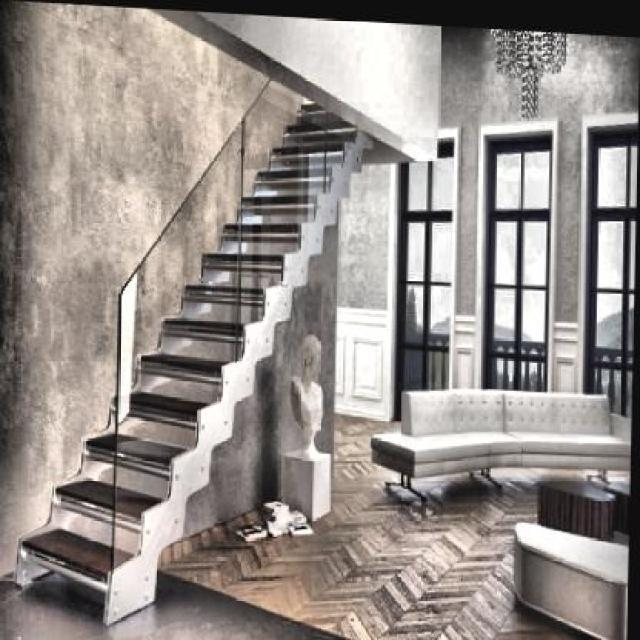stair: (18, 276, 226, 630)
